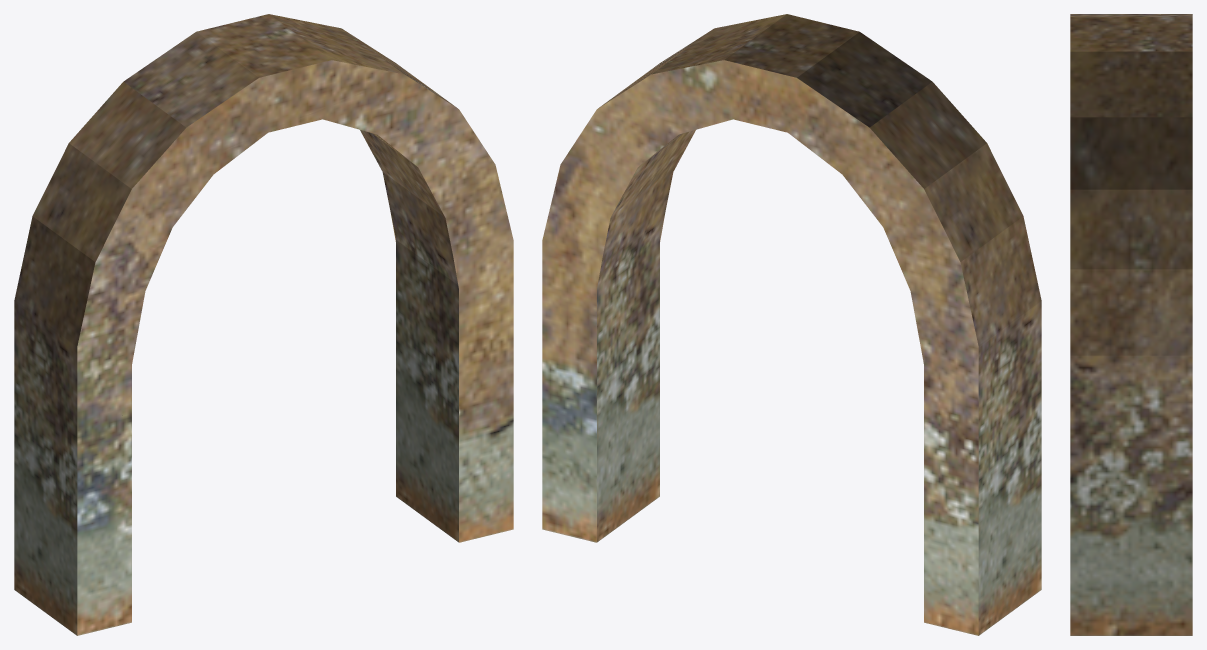
File: darch2.fbx
3 renders of one model, left to right at view 1: azimuth 30°, elevation 25°; view 2: azimuth 150°, elevation 25°; view 3: azimuth 270°, elevation 25°, orthographic. The views are drawn at different scales.
Parts seen in each view (by area): view 1: darch2; view 2: darch2; view 3: darch2.
Boxes of the visible parts, box(x1,y1,x2,y2) form: darch2: box(14, 14, 513, 635); darch2: box(542, 14, 1041, 635); darch2: box(1070, 14, 1192, 635).
Bounding box in the file's own units: 12800 × 14400 × 3200.
